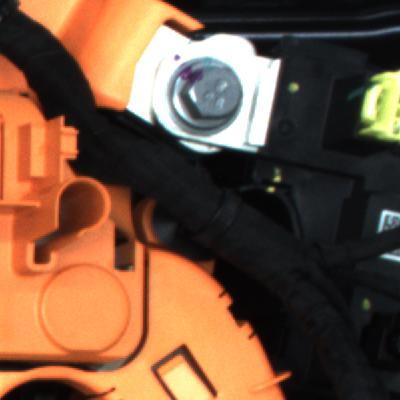nut_b: (143, 50, 260, 145)
